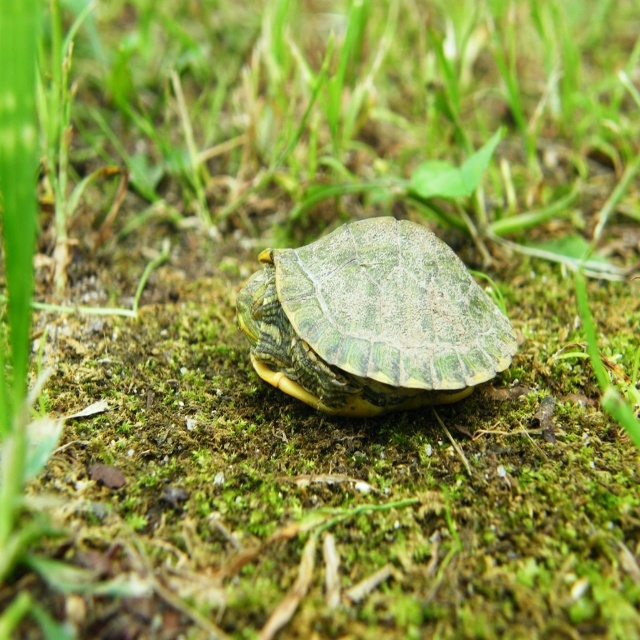Tortoise: (235, 216, 518, 417)
